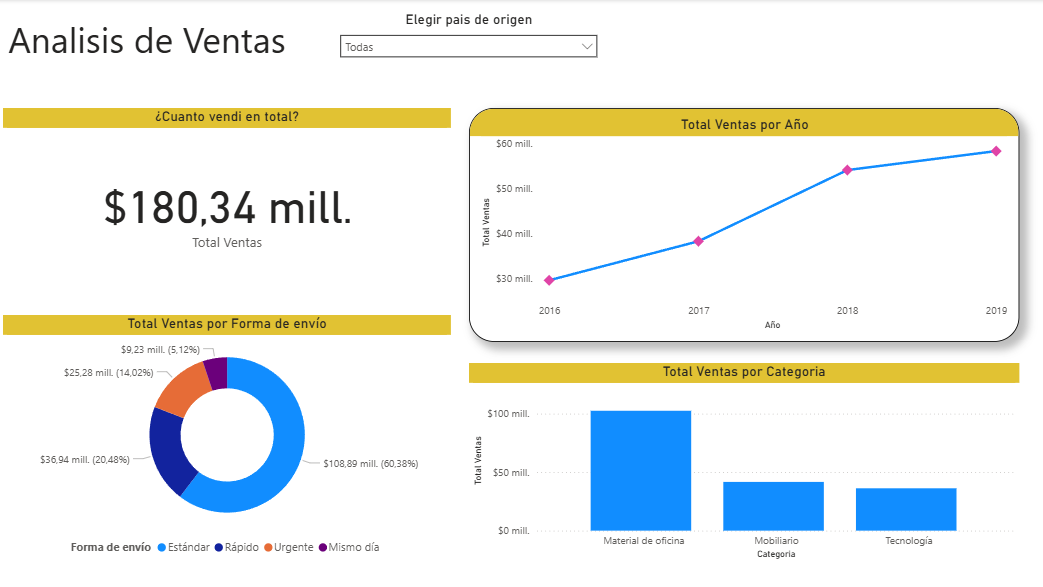

This screenshot's page, from the dashboard's own definition file:
{"tool":"powerbi","page":{"name":"Ventas","canvas":[1280,720],"ordinal":0},"visuals":[{"type":"card","title":"¿Cuanto vendi en total?","fields":{"Values":["COMPRAS.Total Ventas"]},"box":[14.9,132.4,542.5,227.9],"z":0},{"type":"columnChart","fields":{"Y":["COMPRAS.Total Ventas"],"Category":["PRODUCTOS.Categoria"]},"box":[578.3,440.9,665.9,241.9],"z":1000},{"type":"lineChart","fields":{"Category":["COMPRAS.Fecha del pedido.Variación.Jerarquía de fechas.Año","COMPRAS.Fecha del pedido.Variación.Jerarquía de fechas.Trimestre","COMPRAS.Fecha del pedido.Variación.Jerarquía de fechas.Mes","COMPRAS.Fecha del pedido.Variación.Jerarquía de fechas.Día"],"Y":["COMPRAS.Total Ventas"]},"box":[578.3,132.4,665.9,282.7],"z":2000},{"type":"donutChart","fields":{"Y":["COMPRAS.Total Ventas"],"Category":["COMPRAS.Forma de envío"]},"box":[14.9,382.2,542.5,300.6],"z":3000},{"type":"slicer","title":"Elegir pais de origen ","fields":{"Values":["COMPRAS.PaisTienda"]},"box":[412.1,13.9,331.4,72.7],"z":4000},{"type":"textbox","box":[15.3,14.4,354.6,71.8],"z":4001}]}

Visuals, with their boxes in screenshot pixels (x1, y1, x2, y2), scaled from the page's 1280x720 canvas onto the 1043x587 screenshot:
"¿Cuanto vendi en total?" card: [12, 108, 454, 294]
columnChart - COMPRAS.Total Ventas x PRODUCTOS.Categoria: [471, 359, 1014, 557]
lineChart - COMPRAS.Fecha del pedido.Variación.Jerarquía de fechas.Año x COMPRAS.Fecha del pedido.Variación.Jerarquía de fechas.Trimestre: [471, 108, 1014, 338]
donutChart - COMPRAS.Total Ventas x COMPRAS.Forma de envío: [12, 312, 454, 557]
"Elegir pais de origen " slicer: [336, 11, 606, 71]
textbox: [12, 12, 301, 70]
